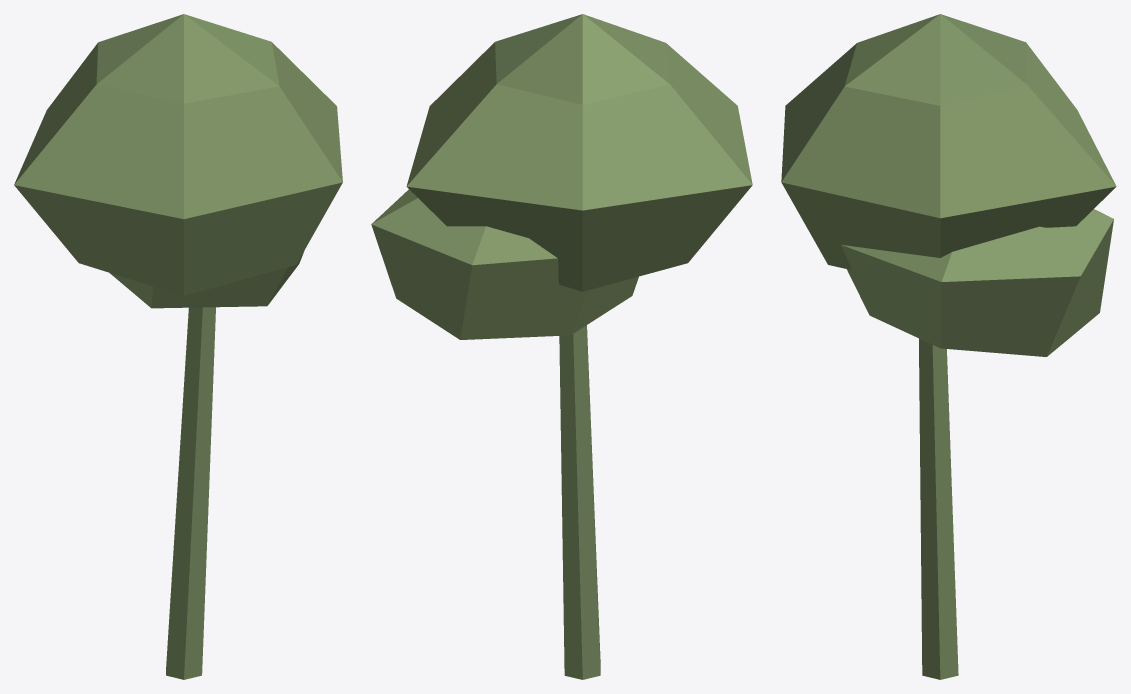
The model's file is tree_broadleaf_slim.glb.
The picture shows the model from 3 angles, left to right: view 1: azimuth 30°, elevation 25°; view 2: azimuth 150°, elevation 25°; view 3: azimuth 270°, elevation 25°; orthographic projection.
Parts seen in each view (by area): view 1: tree_broadleaf_slim; view 2: tree_broadleaf_slim; view 3: tree_broadleaf_slim.
Part boxes in pixels (x1,y1,x2,y2): tree_broadleaf_slim: (14, 14, 342, 679); tree_broadleaf_slim: (371, 14, 752, 679); tree_broadleaf_slim: (781, 14, 1116, 679).
Size of the model in its own units: 3.76 by 7.3 by 3.38.
